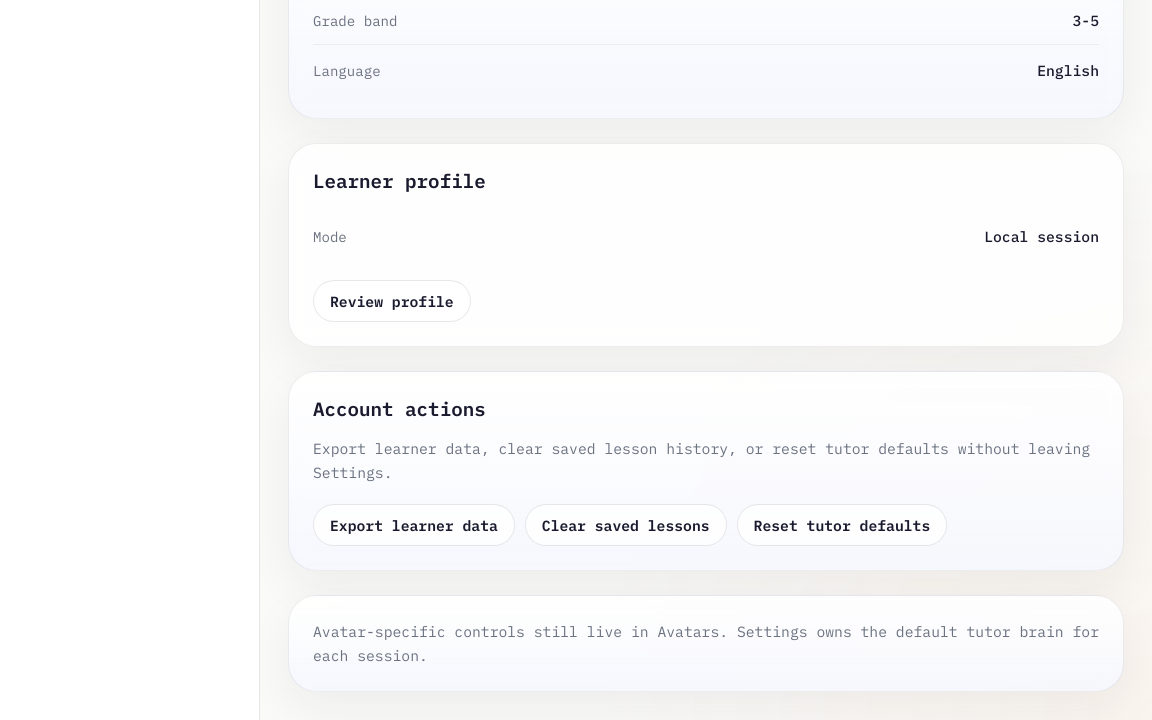
Test: settings exposes learner data export and reset actions
(page scrolled)
Click the button "Export learner data" at (414, 525), box [313,504,515,546]
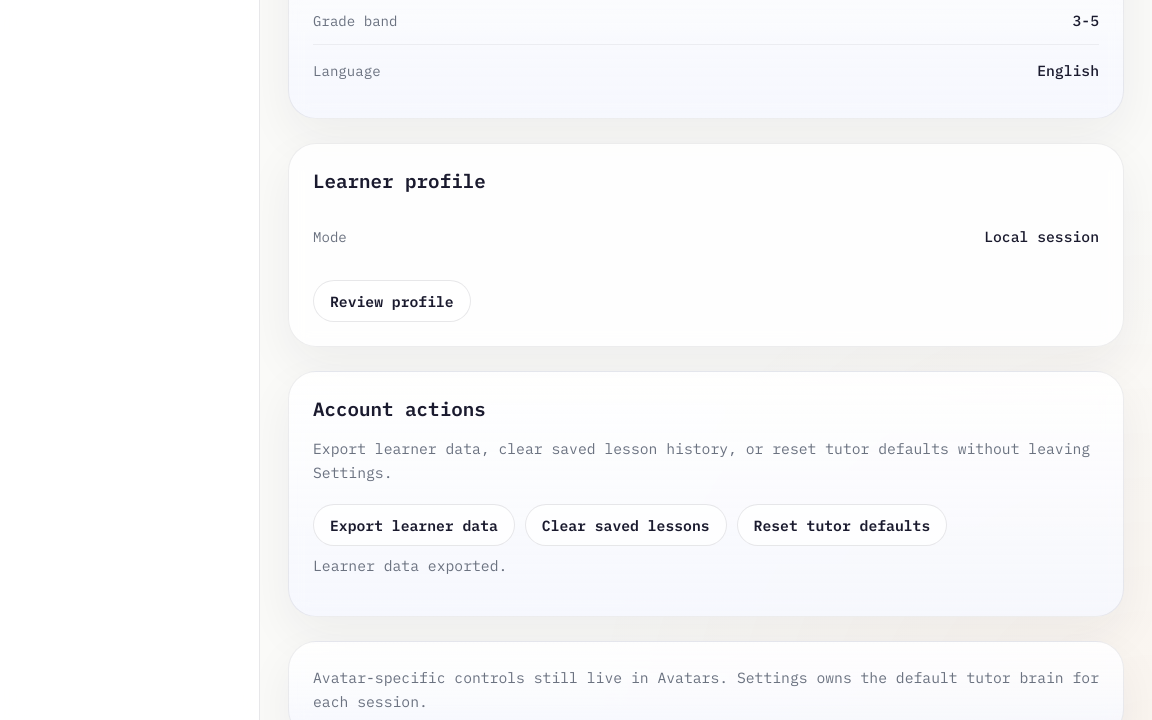
Click the button "Clear saved lessons" at (626, 525), box [525,504,727,546]
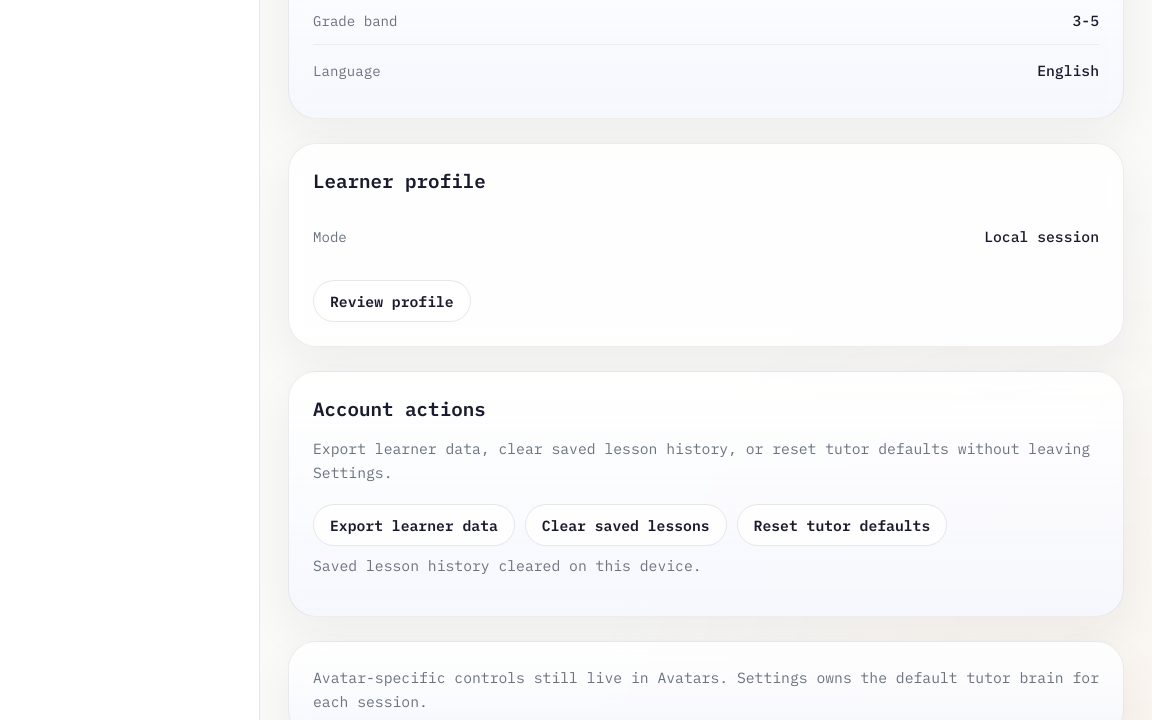
expect the message reads "Saved lesson history cleared on this device.": met, box [313,556,702,575]
Click the button "Reset tutor defaults" at (842, 525), box [737,504,947,546]
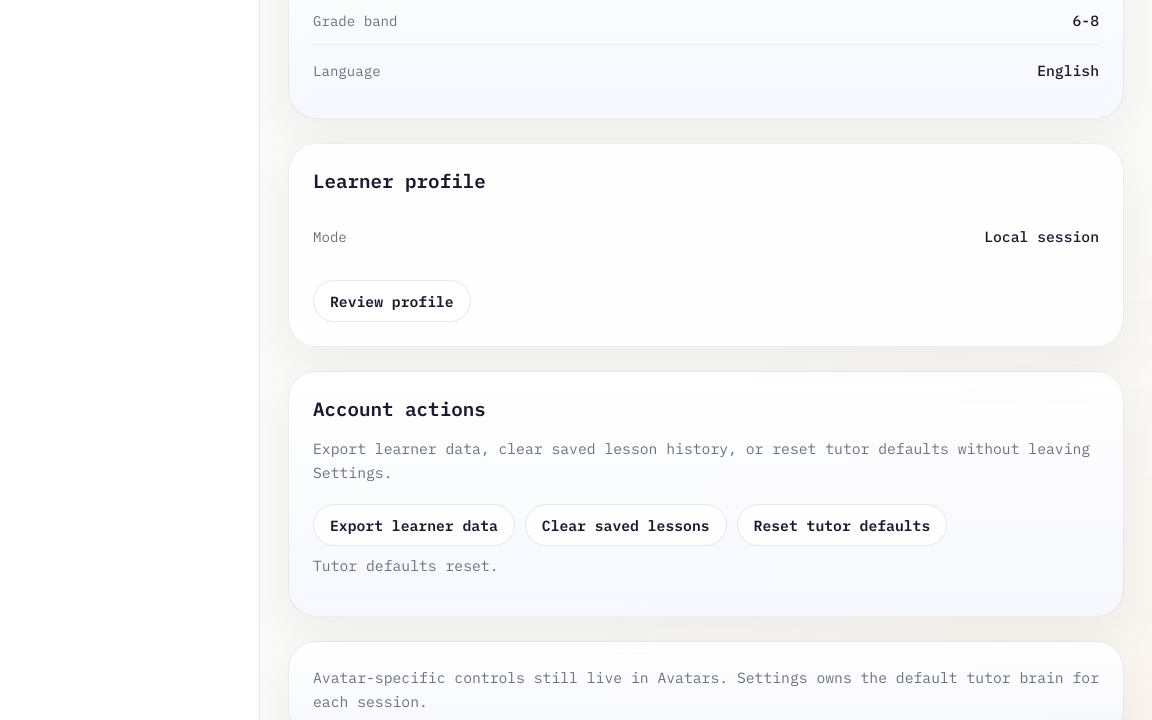
expect the message reads "Tutor defaults reset.": met, box [313,556,498,575]
